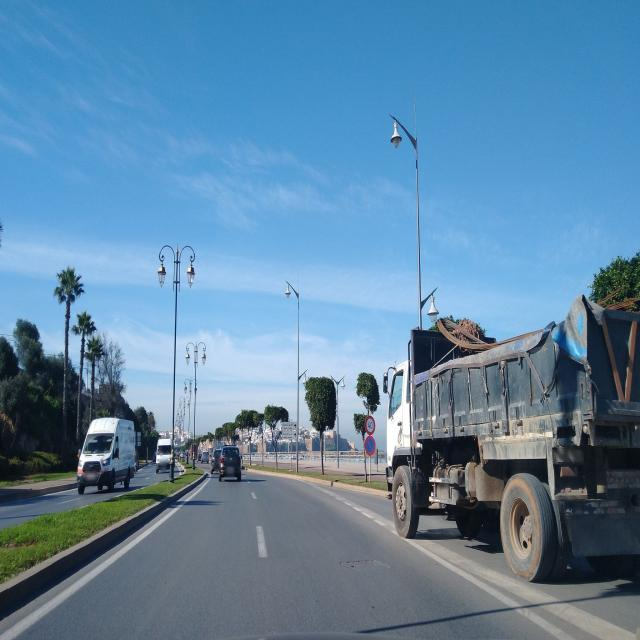forb_stopping: (364, 435, 376, 457)
